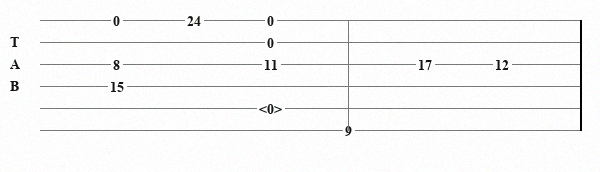0: (113, 13, 124, 27), (267, 35, 278, 49), (267, 13, 278, 27)
11: (264, 57, 282, 71)
12: (495, 57, 513, 71)
15: (110, 79, 128, 93)
17: (418, 57, 436, 71)
24: (187, 13, 205, 27)
8: (113, 57, 124, 71)
9: (345, 123, 356, 137)
harmonic: (259, 101, 286, 115)
